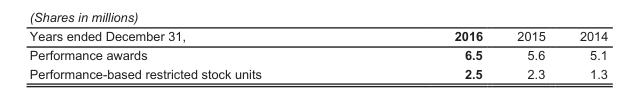table: (28, 28, 607, 81)
table column: (28, 28, 357, 81), (357, 28, 499, 81), (499, 28, 561, 81), (561, 28, 607, 81)
table column header: (28, 28, 607, 45)
table row: (28, 45, 607, 64), (28, 28, 607, 45), (28, 64, 607, 81)
